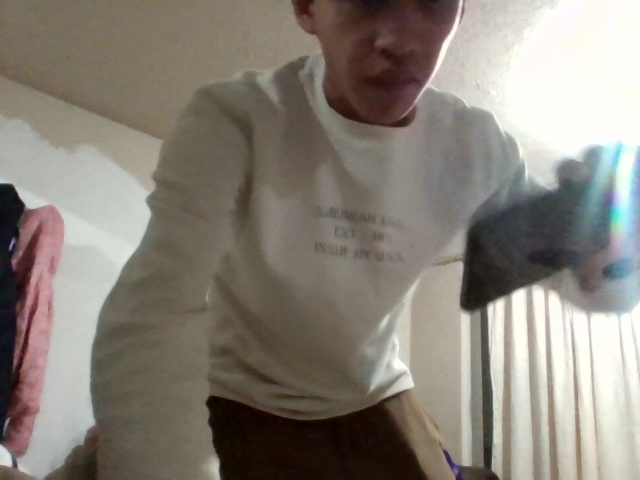celular: (450, 139, 633, 315)
